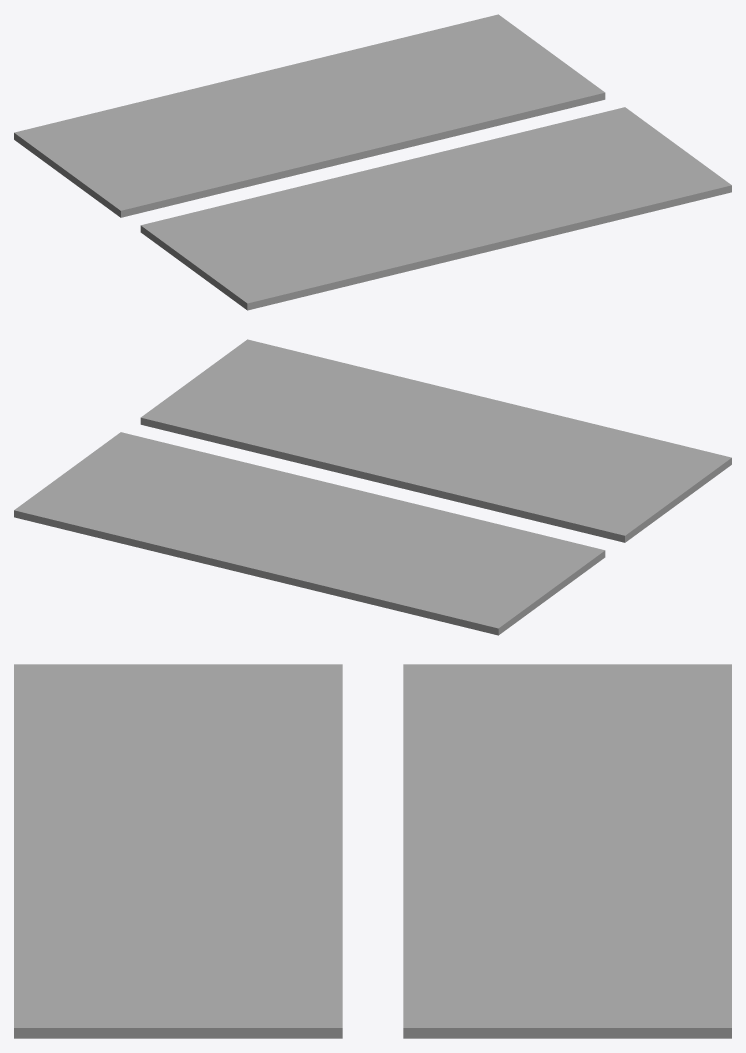
Rendered from 1_發電機水泥基座.glb.
3 renders of one model, top to bottom at view 1: azimuth 30°, elevation 25°; view 2: azimuth 150°, elevation 25°; view 3: azimuth 270°, elevation 25°, orthographic. The views are drawn at different scales.
Visible parts, largest first — view 1: 1_發電機水泥基座; view 2: 1_發電機水泥基座; view 3: 1_發電機水泥基座.
Part boxes in pixels (x1,y1,x2,y2): 1_發電機水泥基座: (14, 14, 731, 310); 1_發電機水泥基座: (14, 339, 731, 635); 1_發電機水泥基座: (14, 664, 731, 1038).
Size of the model in its own units: 7.2 by 0.1001 by 6.01.
1 material, 1 textured.
